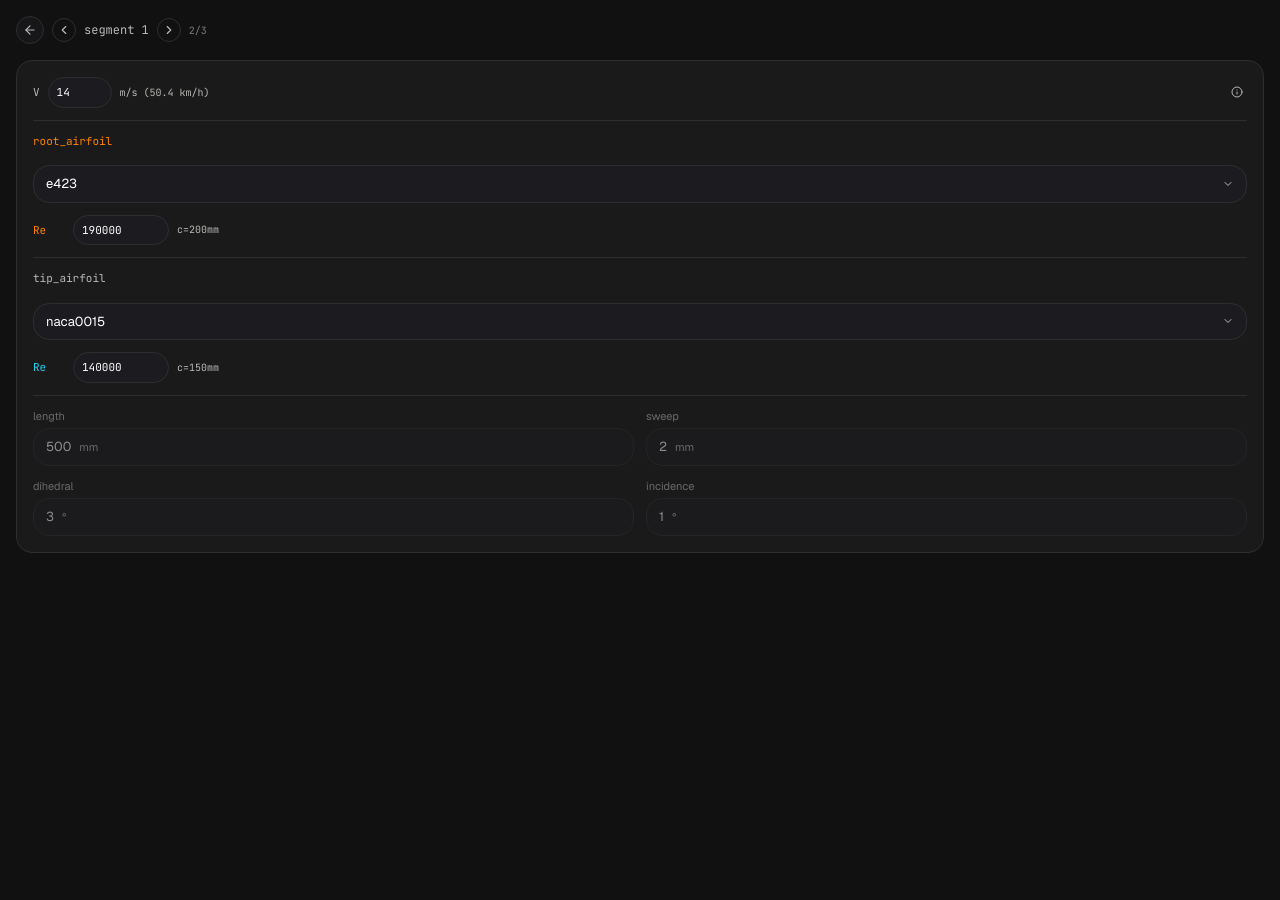
Test case: AirfoilPreviewConfigPanel — coverage › Re info toggle shows/hides Re explanation on click
Click the button titled "Reynolds-Zahl Berechnung" at (1237, 92), box [1227,82,1247,102]
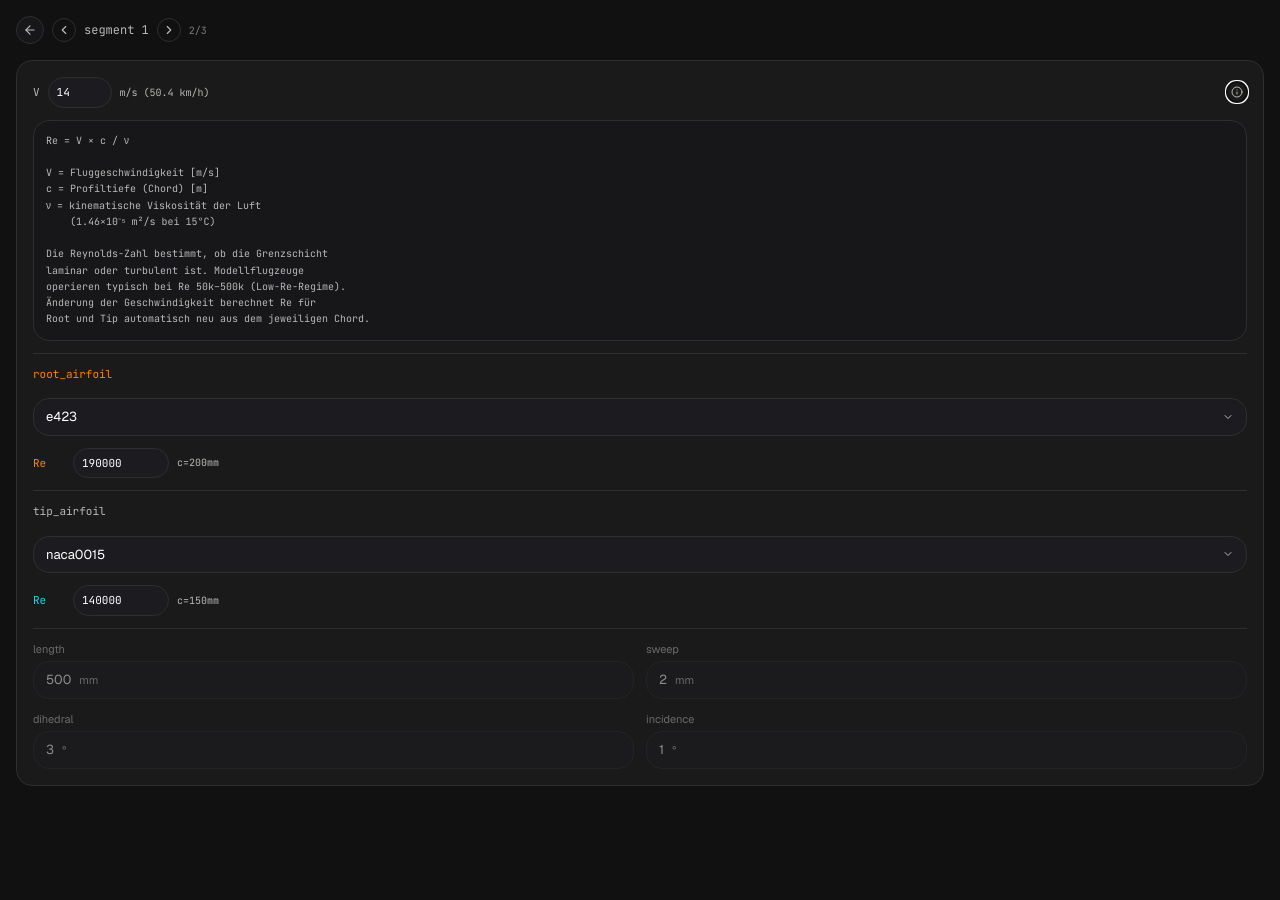
Expected: the text "Reynolds-Zahl" is shown, [46,134,370,325]
# Toggle off
Click the button titled "Reynolds-Zahl Berechnung" at (1237, 92), box [1227,82,1247,102]
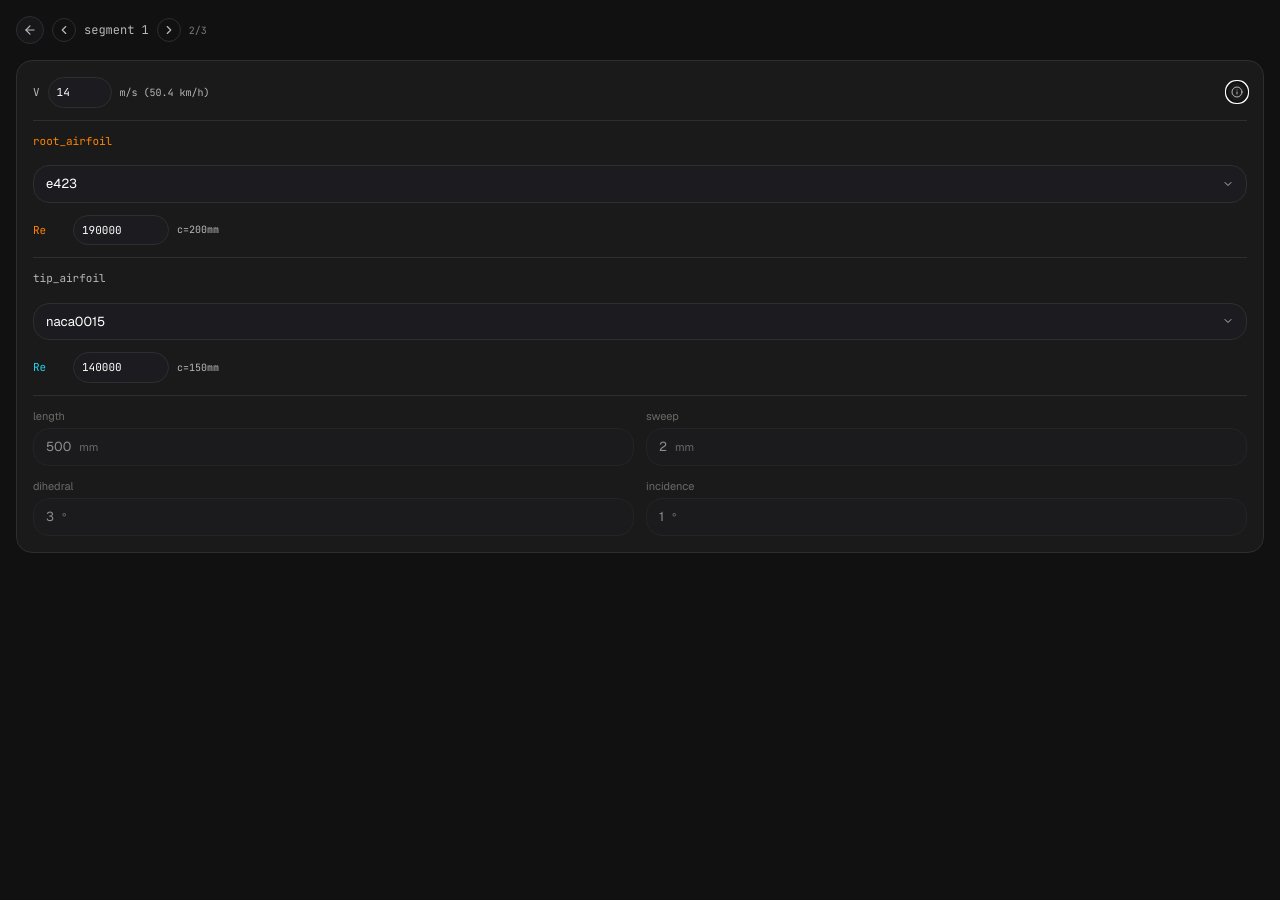
Expected: the text "Reynolds-Zahl" is gone
